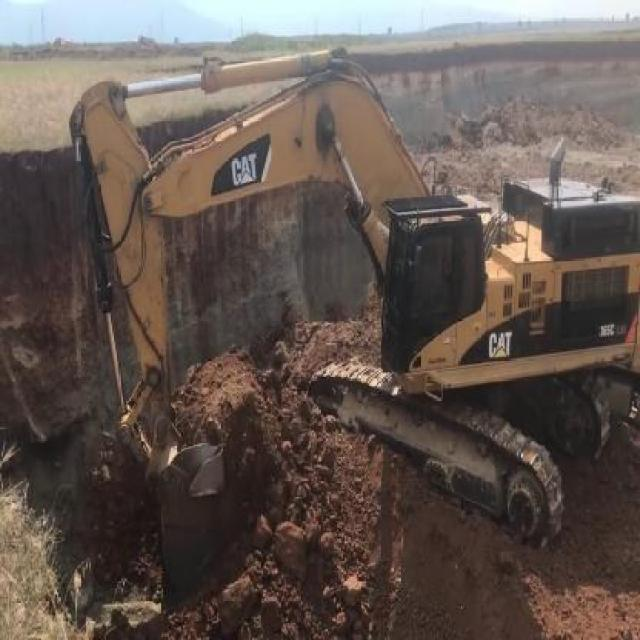Excavator: (66, 41, 640, 584)
